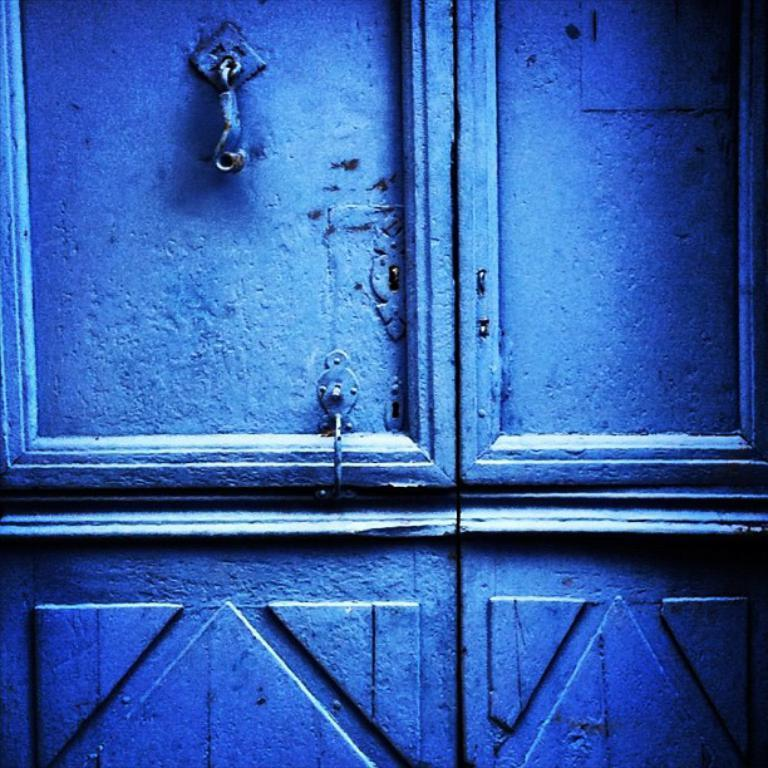door: (8, 20, 446, 744), (471, 38, 765, 768)
